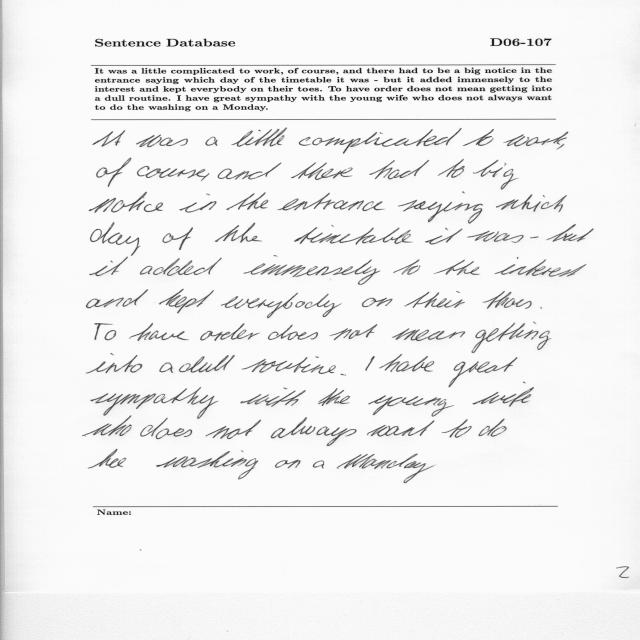word: (299, 128, 462, 154), (244, 255, 381, 285), (91, 387, 219, 419), (221, 293, 342, 318), (156, 451, 258, 480), (398, 192, 483, 224), (271, 417, 357, 446), (472, 322, 552, 353), (294, 225, 413, 245), (449, 357, 518, 387), (277, 193, 385, 211), (368, 395, 454, 417), (242, 356, 336, 374), (90, 223, 141, 256), (495, 259, 587, 277), (89, 192, 163, 213), (472, 382, 534, 407), (434, 257, 518, 275), (140, 258, 222, 276), (159, 289, 214, 313), (337, 453, 418, 469), (496, 195, 567, 213), (240, 388, 306, 407), (87, 290, 148, 309), (86, 354, 143, 374), (291, 162, 353, 180), (137, 166, 210, 181), (140, 418, 192, 439), (218, 163, 282, 180), (129, 323, 189, 341), (200, 323, 260, 341), (367, 421, 434, 437), (231, 128, 287, 147), (206, 420, 261, 439), (404, 291, 465, 308), (97, 158, 132, 187), (379, 354, 434, 372), (83, 416, 132, 436), (504, 132, 569, 147), (179, 355, 235, 372), (392, 328, 465, 341), (215, 223, 262, 243), (483, 291, 532, 309), (547, 224, 594, 242), (388, 160, 429, 179), (329, 324, 377, 340), (89, 449, 127, 469), (226, 192, 268, 210), (268, 325, 318, 340), (90, 257, 128, 276), (162, 227, 193, 250), (404, 461, 436, 483), (180, 194, 217, 213), (467, 231, 524, 243), (425, 228, 463, 245), (136, 135, 188, 147), (473, 160, 507, 177), (318, 388, 350, 406), (442, 419, 472, 438), (93, 130, 125, 147), (463, 129, 494, 146), (478, 419, 507, 437), (438, 159, 465, 178), (369, 160, 395, 179), (393, 259, 420, 275), (501, 169, 519, 190), (95, 323, 116, 340), (362, 298, 393, 307), (275, 460, 300, 468), (160, 362, 174, 373), (365, 356, 375, 371), (206, 137, 218, 146), (313, 460, 324, 469), (557, 144, 565, 150), (530, 237, 539, 239), (341, 374, 346, 376), (540, 307, 542, 309)
